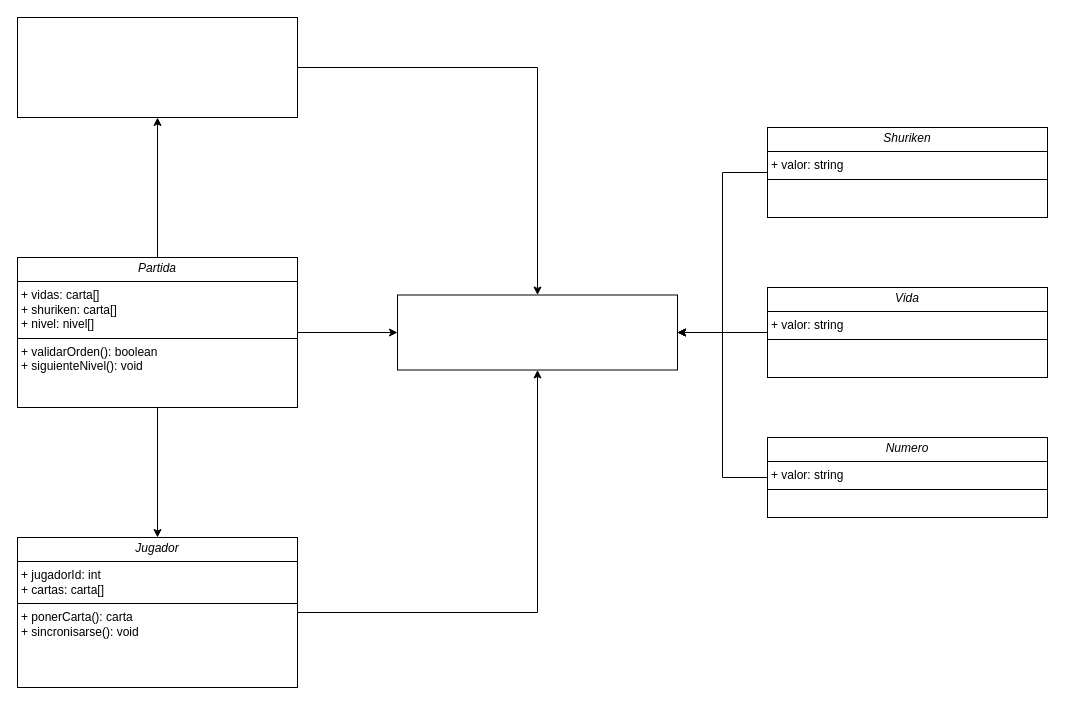
Image size: 1065x705. Some labels were removed from this diagram. The shapes that lost their labels are listed below. From the top down, each one's centre as x and y in pixels, then its label:
At (157,67): "nivel + levelID: Int + reward: Carta".
At (537,332): "Carta + valor: string".
